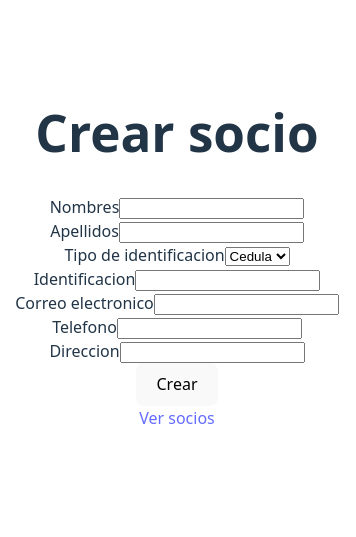
it: Register - Crear socio › valida cedula (10 dígitos)
Type "123" into the field with test id "input-identificacion" at (228, 281), box left=135, top=270, right=320, bottom=291
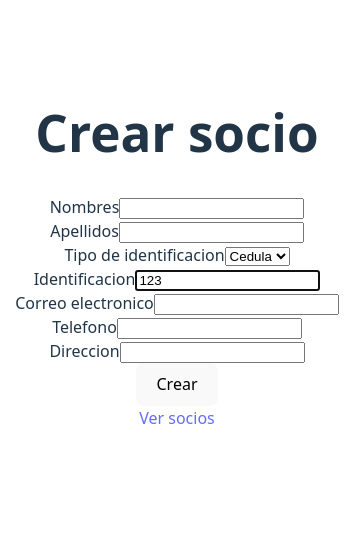
Click the button "Crear" at (177, 385), box left=136, top=363, right=217, bottom=406
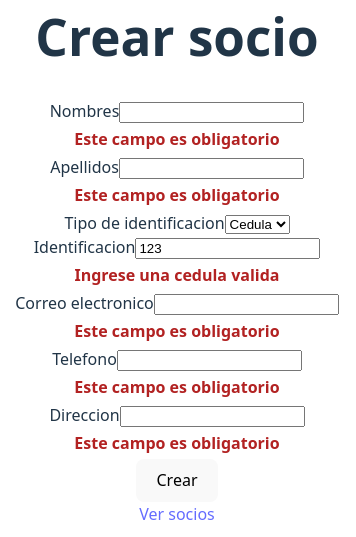
Expected: the text with test id "error-identificacion" reads "Ingrese una cedula valida", left=74, top=264, right=279, bottom=286
